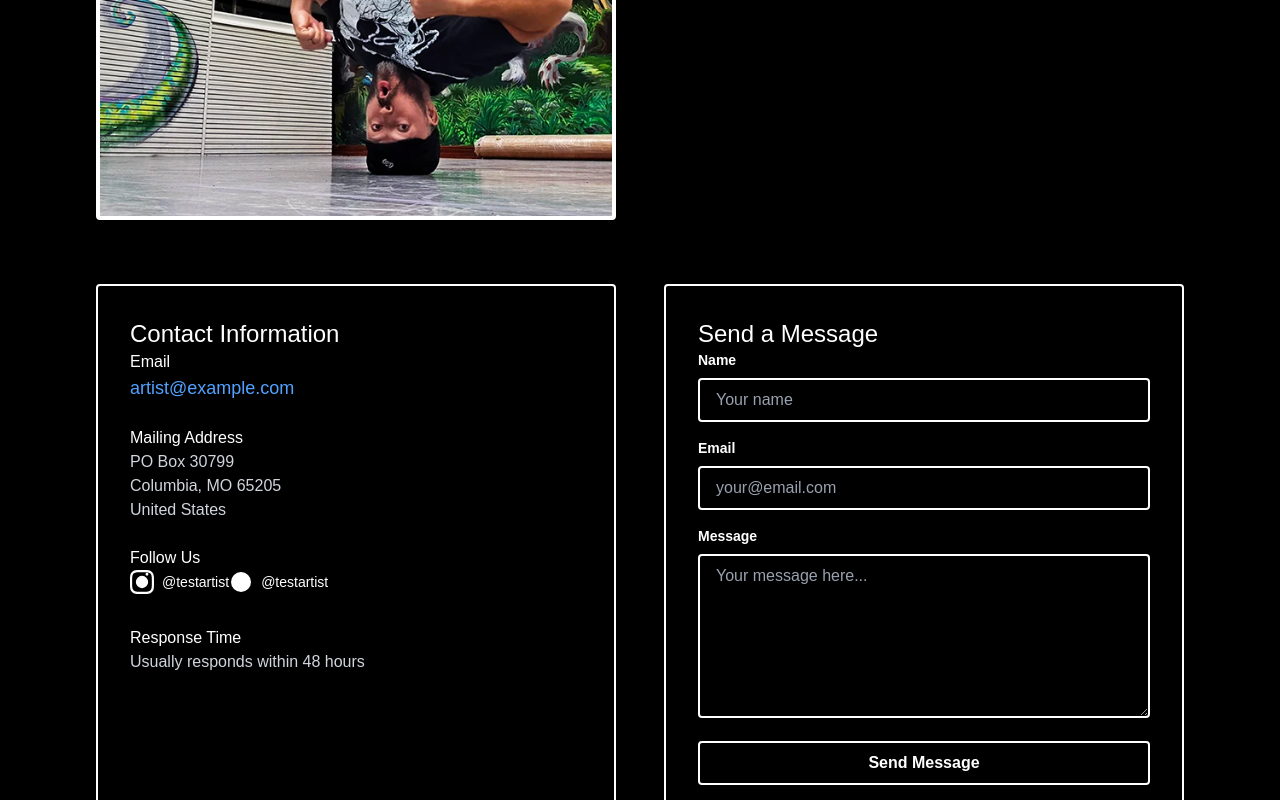
Test: Contact Page › Form Validation › should show success message on valid submission
The width and height of the screenshot is (1280, 800).
(page scrolled)
Type "Test User" into the field with placeholder "Your name" at (924, 400), box [698,378,1150,422]
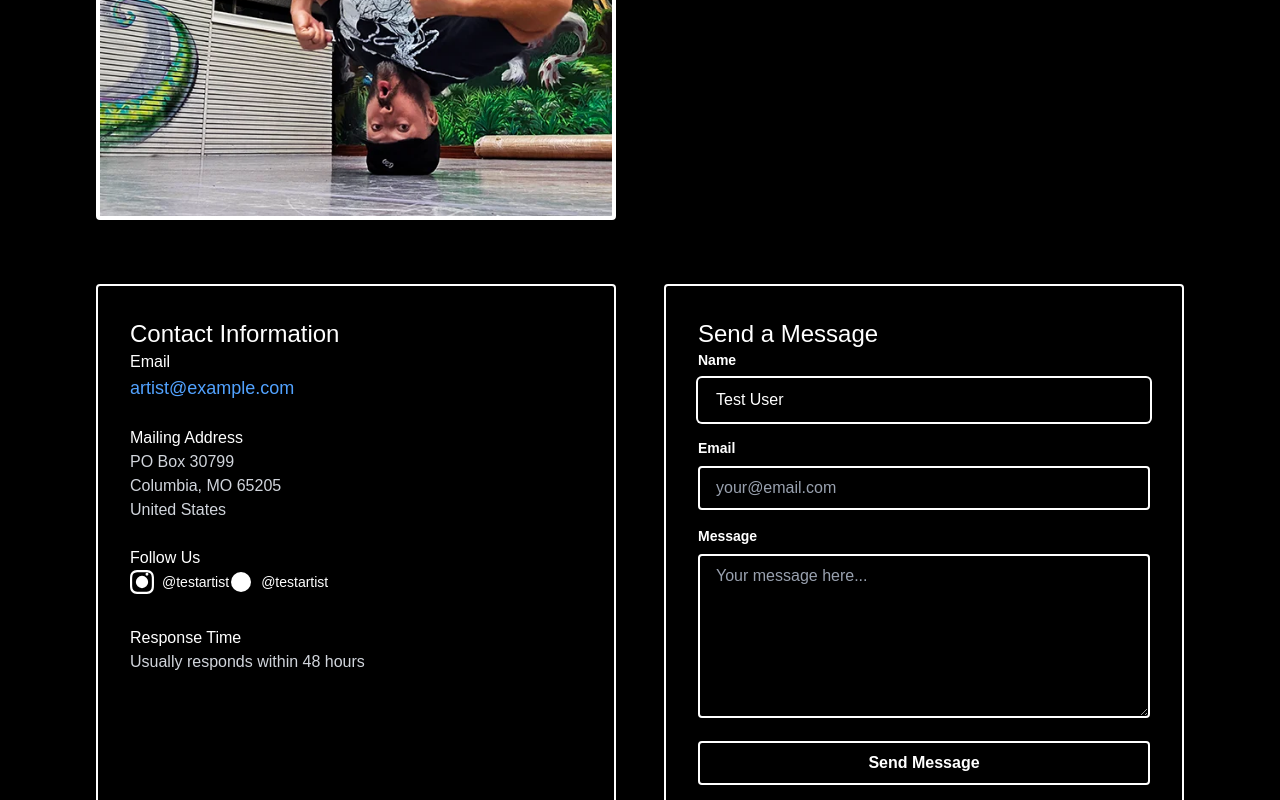
Type "test@example.com" into the field with placeholder "your@email.com" at (924, 488), box [698,466,1150,510]
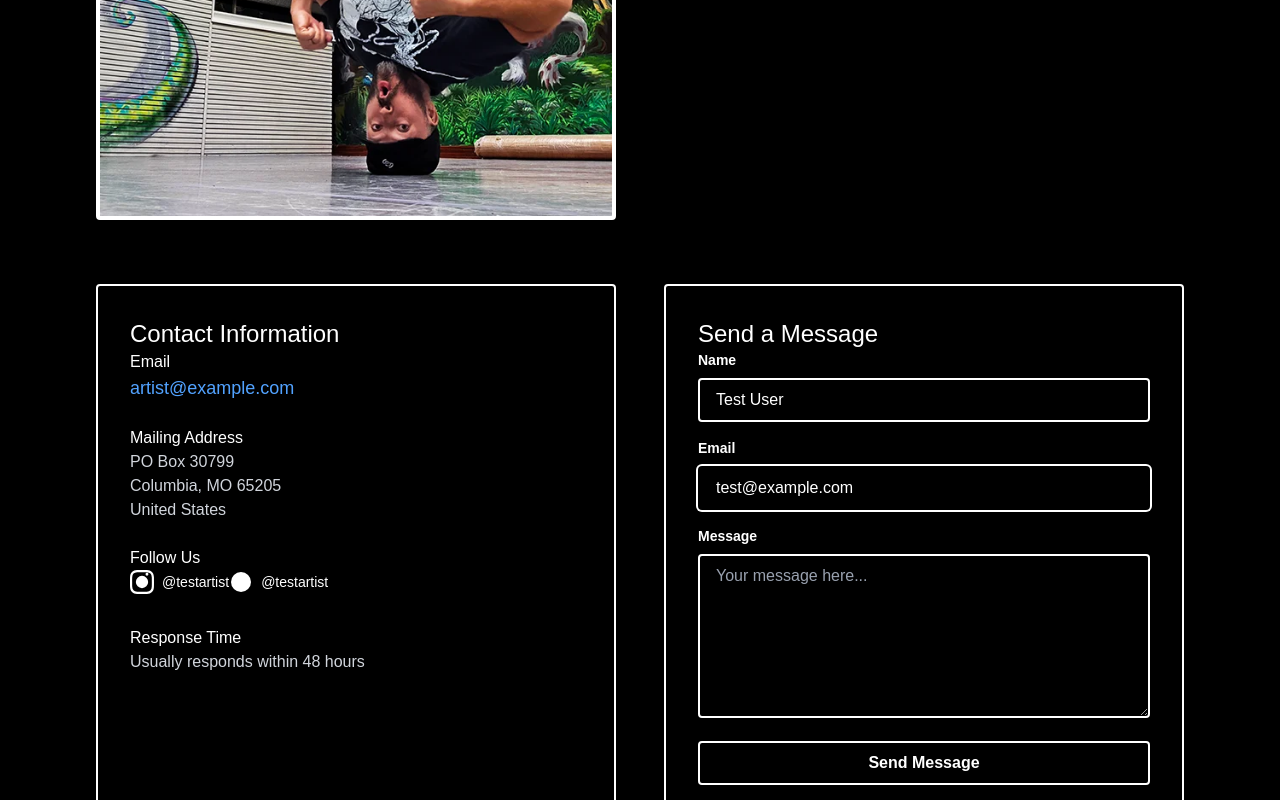
Type "This is a valid message" into the text box with placeholder "Your message here..." at (924, 636), box [698,554,1150,718]
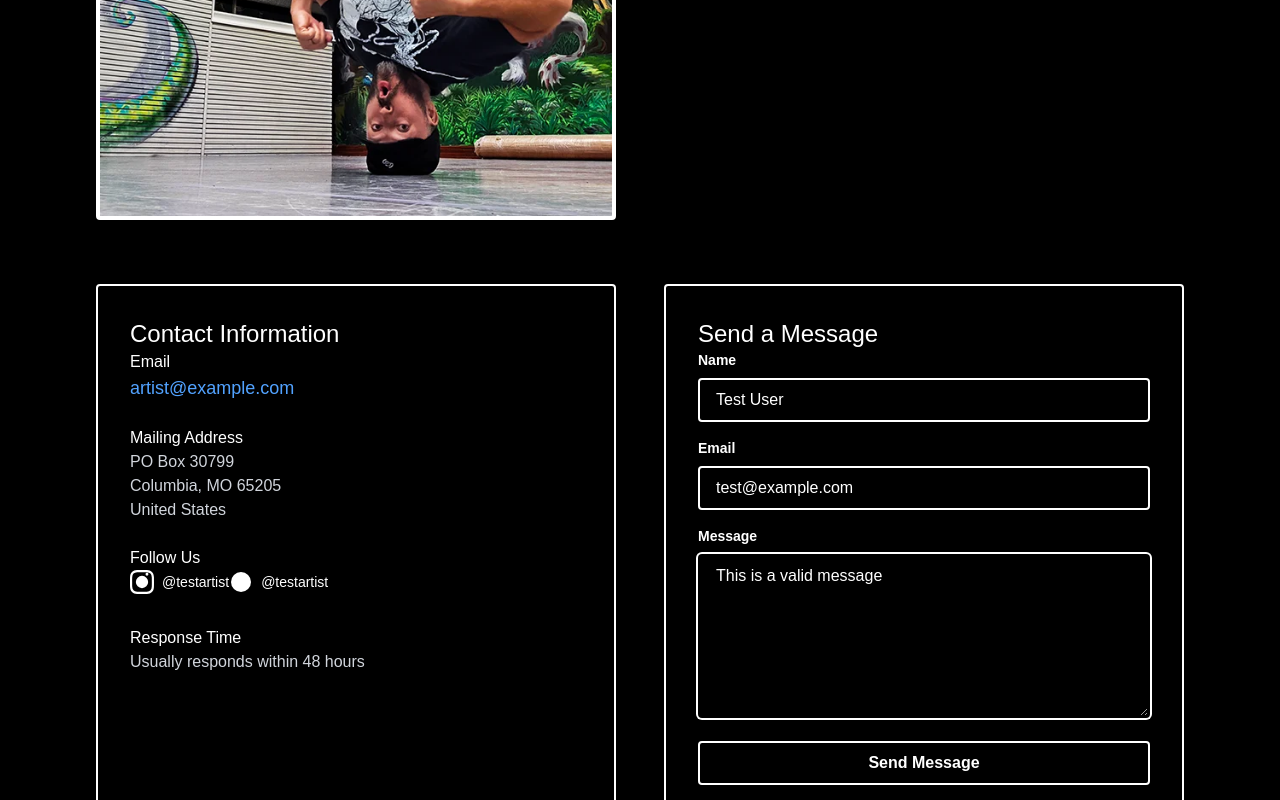
Click the button "Send Message" at (924, 763), box [698,741,1150,785]
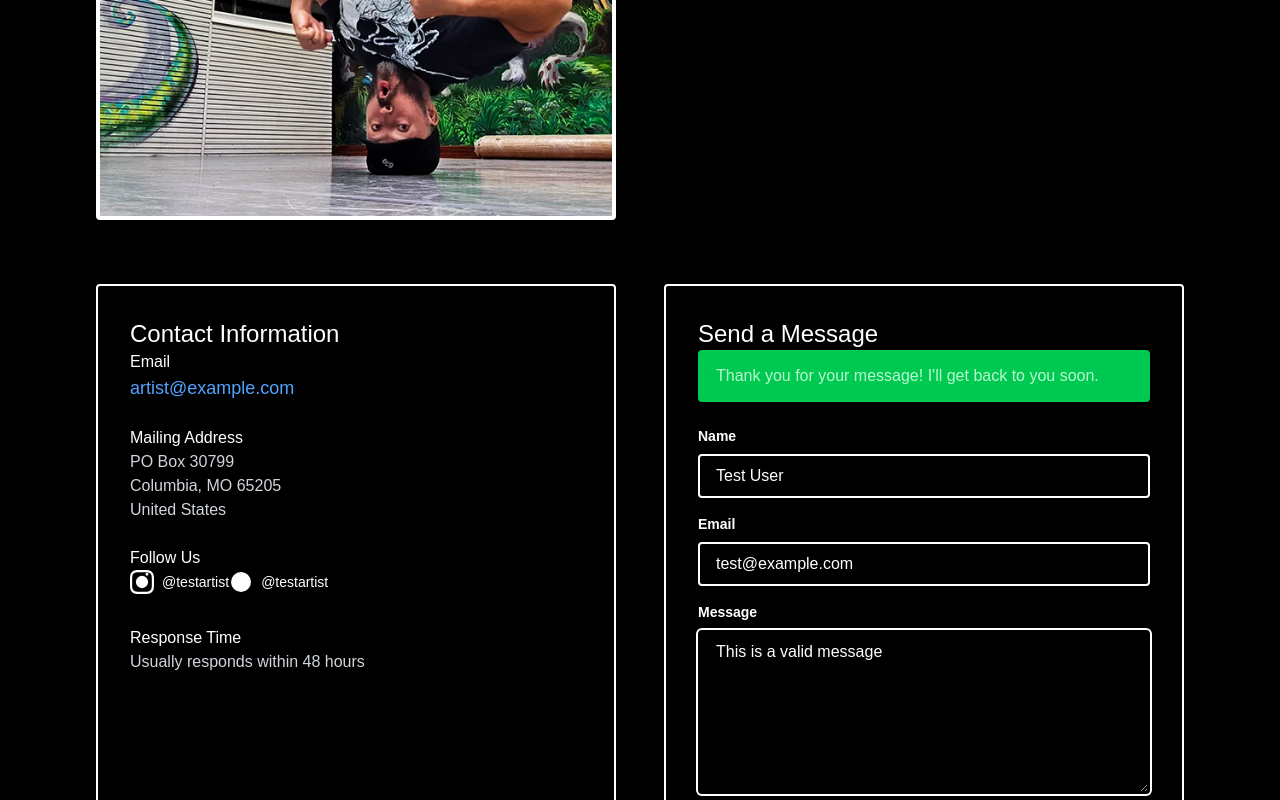
Expected: the text "Thank you for your message! I'll get back to you soon." is shown, [716,364,1132,388]
